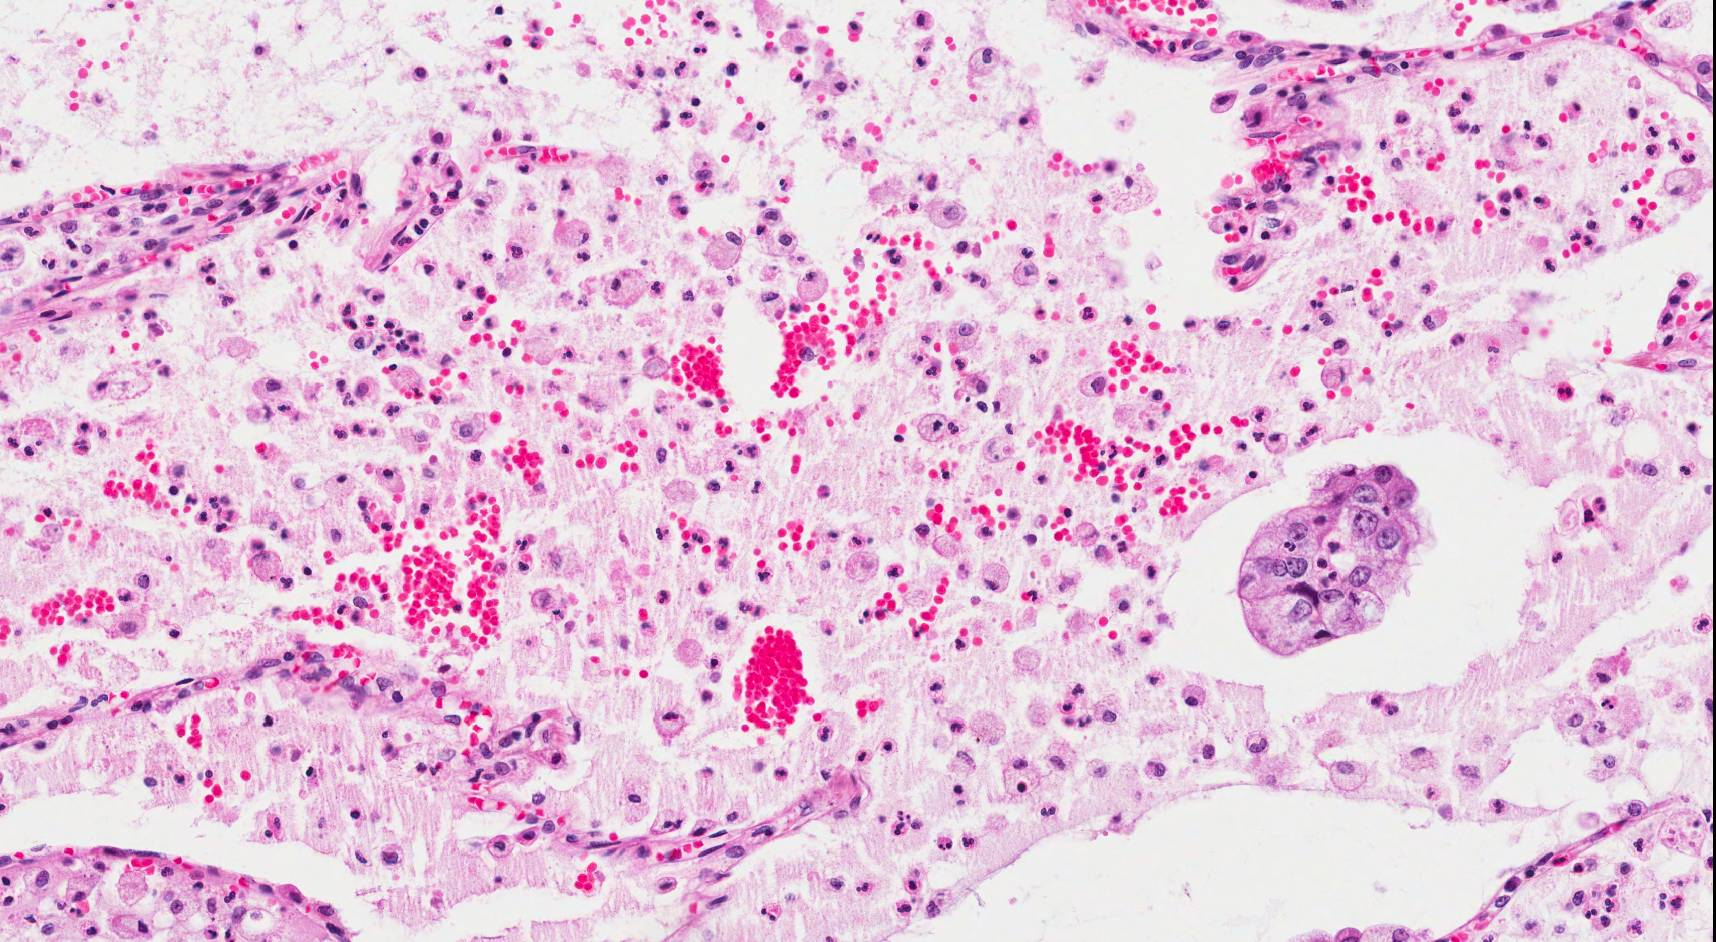stas: (1236, 463, 1441, 658)
